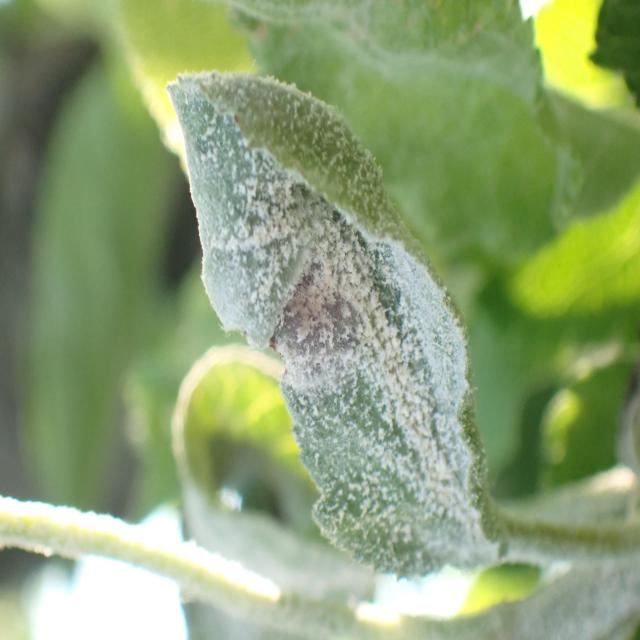Powdery_mildew: (164, 54, 542, 563)
